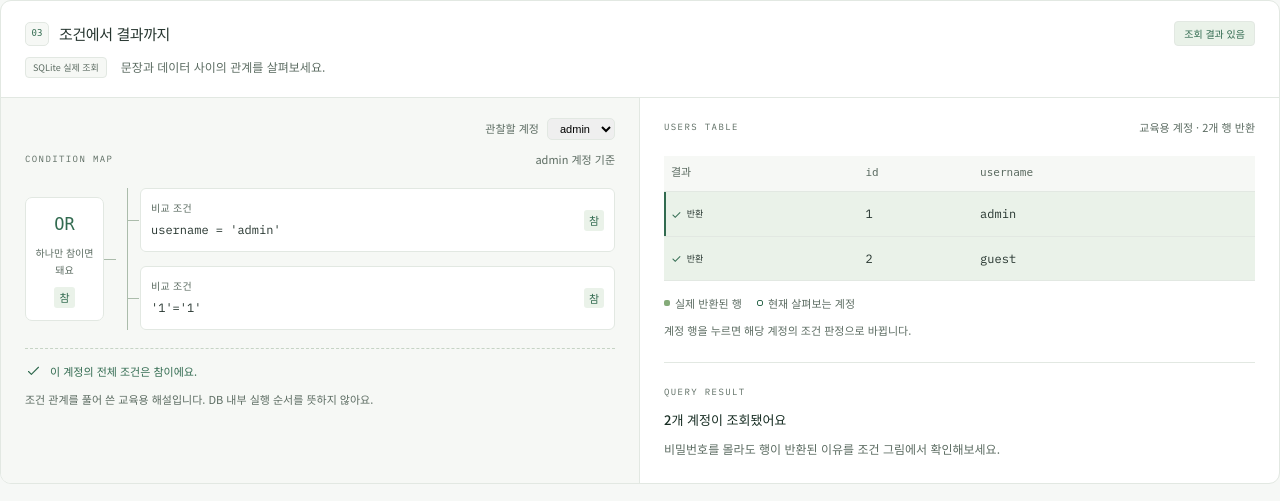
Test: changes the condition explanation when selecting a different account
Check: the 1st text "참" is shown, box [584, 210, 604, 231]
Click the button with aria-label "guest 계정 조건 살펴보기": (687, 258) [671, 251, 703, 266]
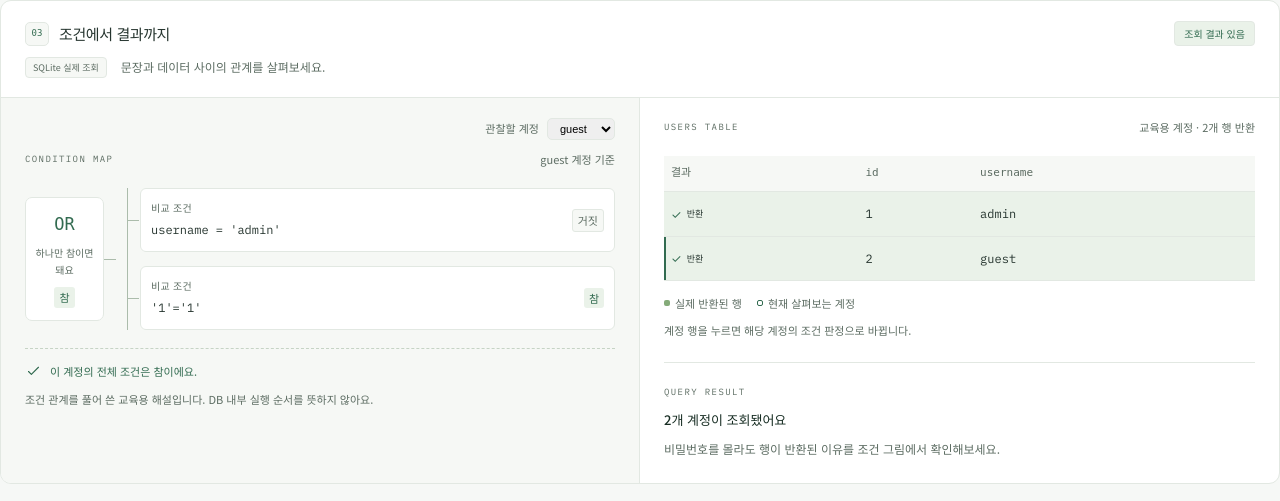
Check: the text "거짓" is shown, box [572, 209, 604, 232]
Check: the text "guest 계정 기준" is shown, box [540, 150, 615, 168]
